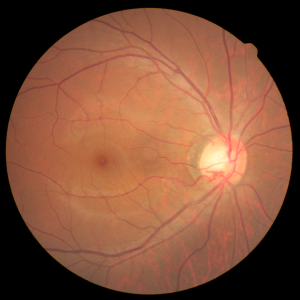glaucoma: (72, 91, 267, 213)
